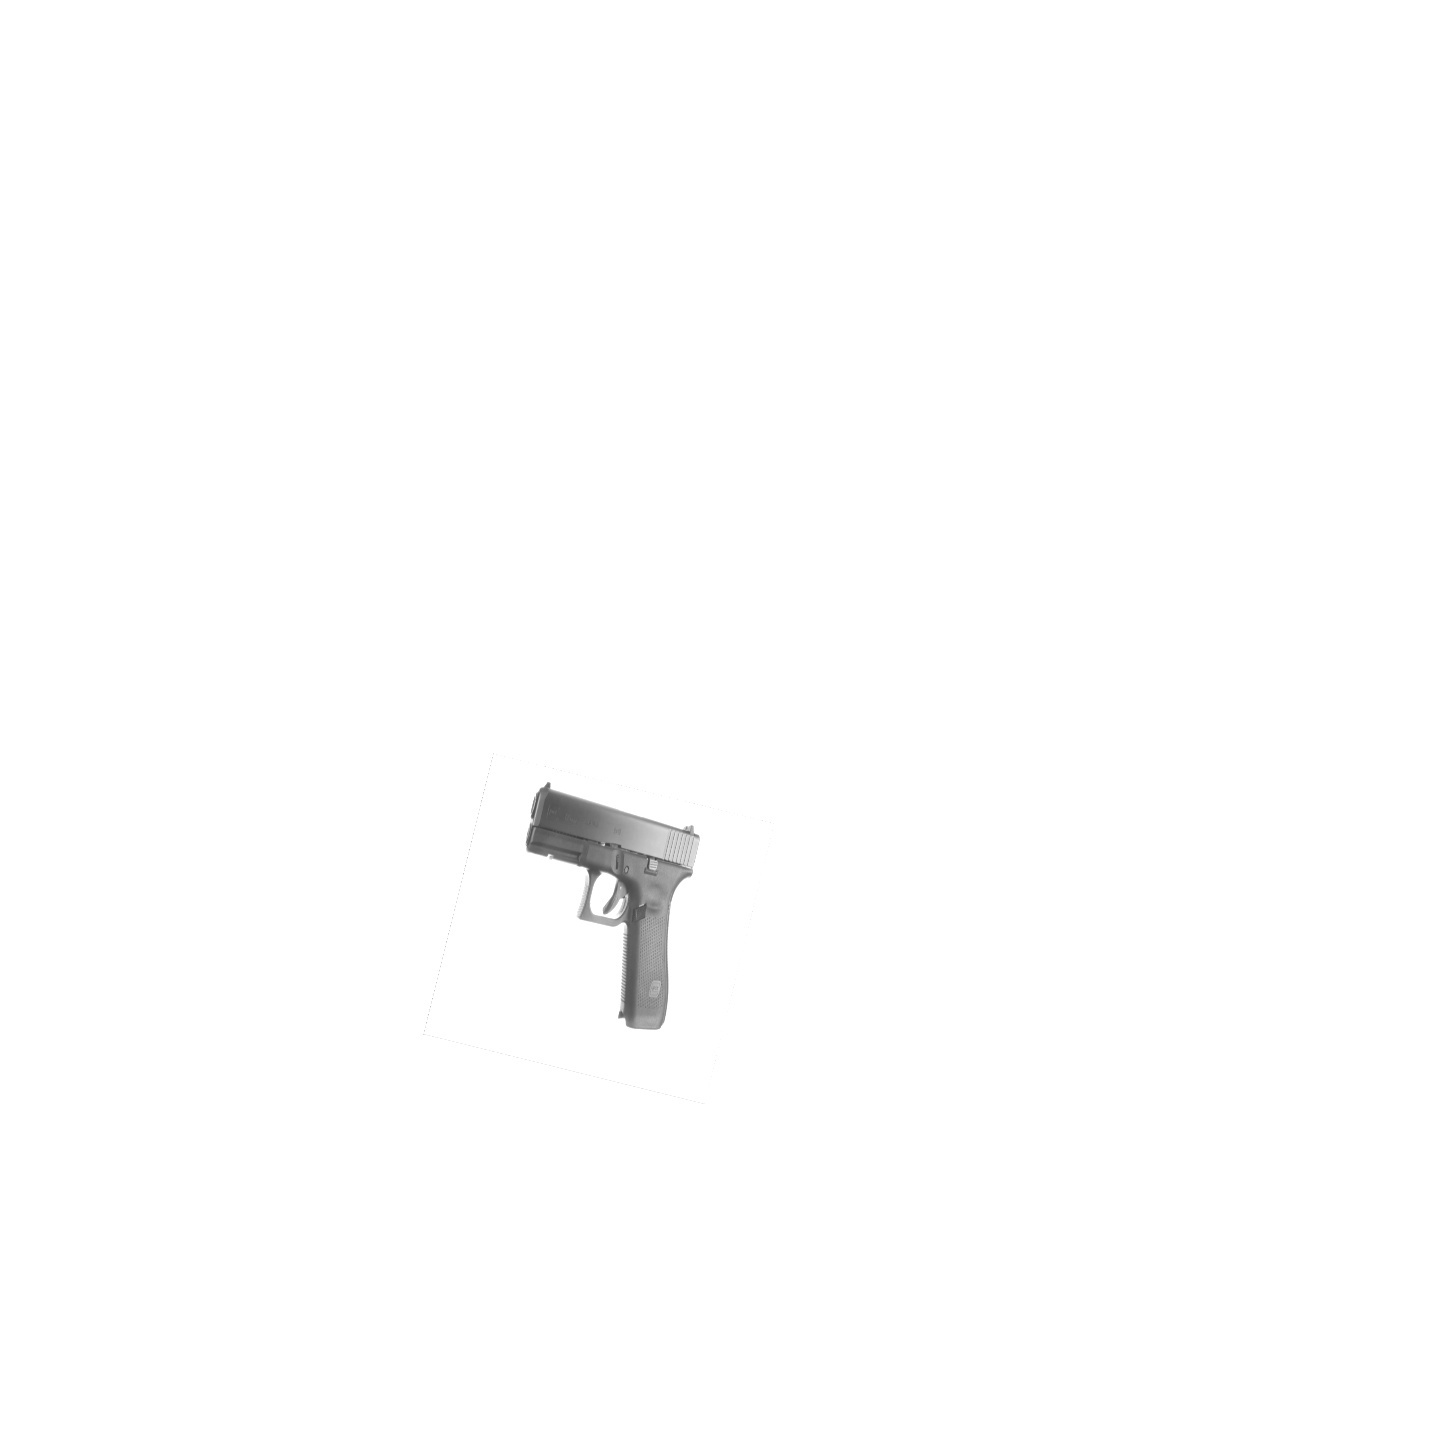gun: (524, 780, 701, 1032)
